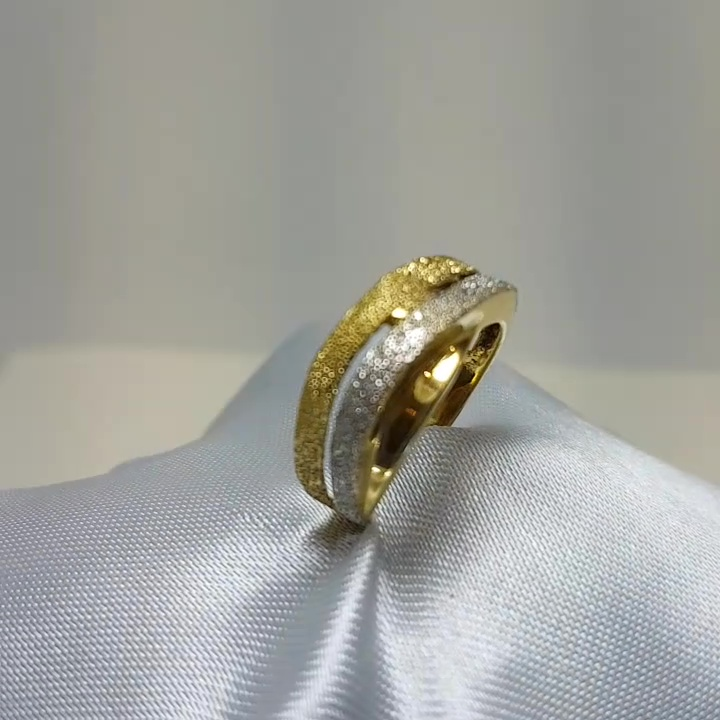Ring 5: (273, 237, 525, 557)
